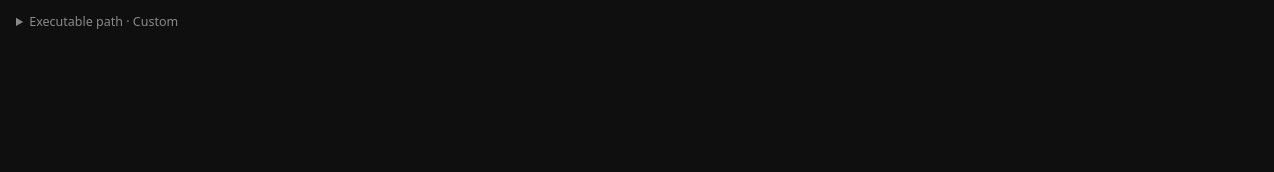
Scenario: marks a custom path while closed, then saves, reports invalid paths, and resets
The width and height of the screenshot is (1274, 172).
Later steps or results of the test are not shown.
Expected: the field labelled "Codex executable path" is not shown
Click the heading "Executable path · Custom" at (97, 22), box [16,12,178,31]
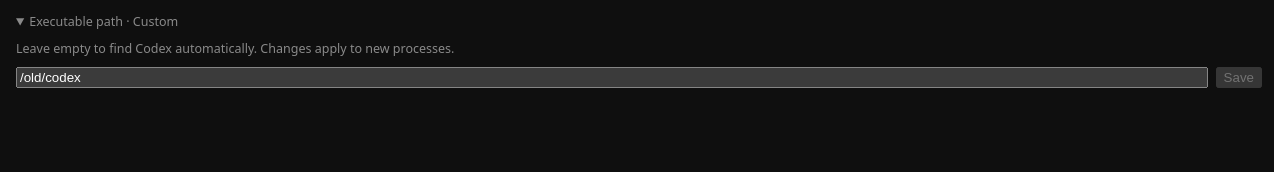
Now the field named "Codex executable path" holds "/old/codex"
Replace the text in the field named "Codex executable path" with "/missing" at (612, 77), box [16,67,1208,88]
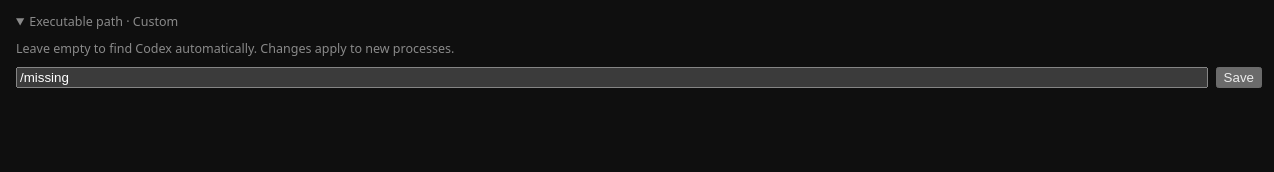
Click the button "Save" at (1239, 77), box [1216,67,1262,88]
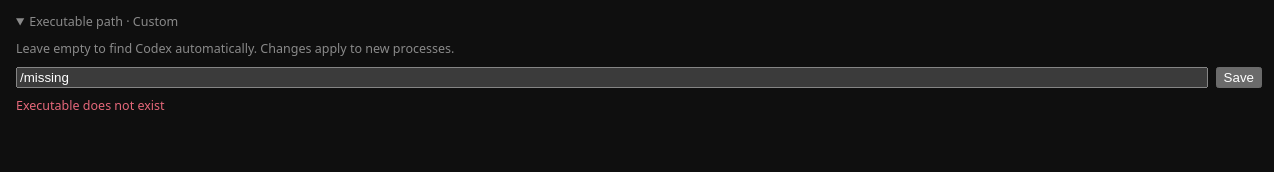
Now the message reads "Executable does not exist", box [16,97,165,114]
